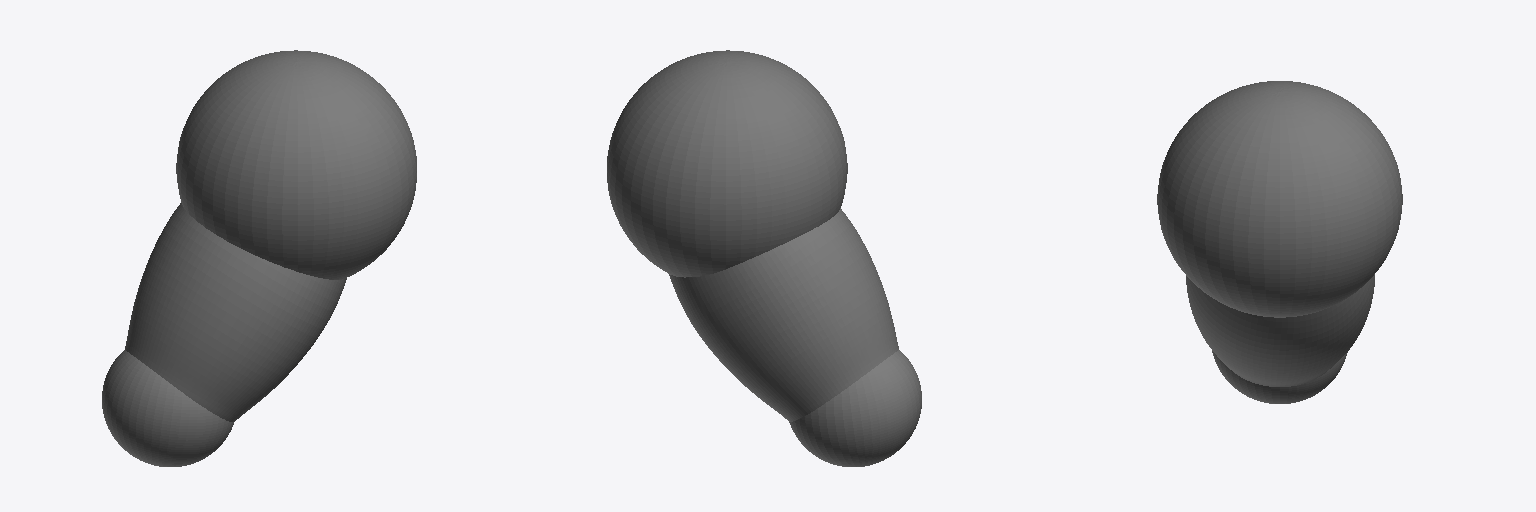
The model's file is uparmRR.obj.
3 renders of one model, left to right at view 1: azimuth 30°, elevation 25°; view 2: azimuth 150°, elevation 25°; view 3: azimuth 270°, elevation 25°, orthographic.
Parts seen in each view (by area): view 1: uparmR:MeshpolySurface16, uparmR:MeshpolySurface6, uparmR:Mesh; view 2: uparmR:MeshpolySurface16, uparmR:MeshpolySurface6, uparmR:Mesh; view 3: uparmR:MeshpolySurface16, uparmR:MeshpolySurface6, uparmR:Mesh.
Boxes of the visible parts, box(x1,y1,x2,y2) form: uparmR:MeshpolySurface16: box(176, 50, 416, 279); uparmR:MeshpolySurface6: box(125, 203, 346, 421); uparmR:Mesh: box(102, 350, 233, 466); uparmR:MeshpolySurface16: box(607, 50, 847, 277); uparmR:MeshpolySurface6: box(669, 208, 898, 421); uparmR:Mesh: box(789, 350, 921, 466); uparmR:MeshpolySurface16: box(1157, 81, 1402, 317); uparmR:MeshpolySurface6: box(1186, 274, 1374, 386); uparmR:Mesh: box(1212, 351, 1347, 403).
Bounding box in the file's own units: 0.3666 × 0.4452 × 0.2691.